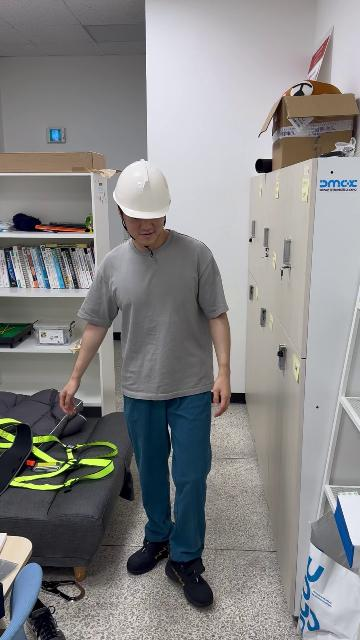helmet_worn: (112, 158, 172, 217)
shoe_not_worn: (26, 600, 69, 639)
shoe_worn: (166, 554, 212, 607), (127, 535, 171, 574)
vest_not_worn: (114, 238, 216, 397)
vest_worn: (0, 417, 119, 493)
